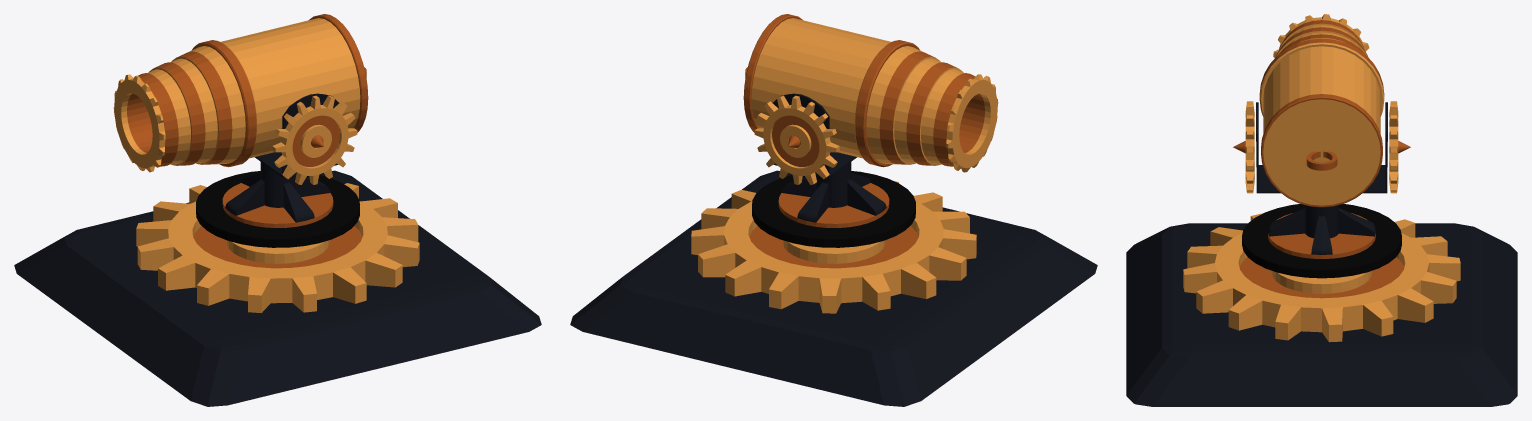
File: Cannon.fbx
The picture shows the model from 3 angles, left to right: view 1: azimuth 30°, elevation 25°; view 2: azimuth 150°, elevation 25°; view 3: azimuth 270°, elevation 25°; orthographic projection. The views are drawn at different scales.
Visible parts, largest first — view 1: Tower, Mutter 1.001, Mutter 1.004, Mutter 1.002; view 2: Tower, Mutter 1.001, Mutter 1.004, Mutter 1.002; view 3: Tower, Mutter 1.001, Mutter 1.004, Mutter 1.002.
Boxes of the visible parts, left/top/right/bottom form: Tower: left=14, top=170, right=541, bottom=406; Mutter 1.001: left=136, top=93, right=419, bottom=312; Mutter 1.004: left=113, top=14, right=368, bottom=172; Mutter 1.002: left=272, top=95, right=357, bottom=184; Tower: left=570, top=170, right=1097, bottom=406; Mutter 1.001: left=691, top=93, right=976, bottom=313; Mutter 1.004: left=743, top=14, right=998, bottom=172; Mutter 1.002: left=754, top=95, right=839, bottom=184; Tower: left=1126, top=223, right=1517, bottom=406; Mutter 1.001: left=1183, top=102, right=1460, bottom=342; Mutter 1.004: left=1259, top=14, right=1384, bottom=207; Mutter 1.002: left=1245, top=101, right=1398, bottom=193.
Bounding box in the file's own units: 1.97 × 1.97 × 1.44.
